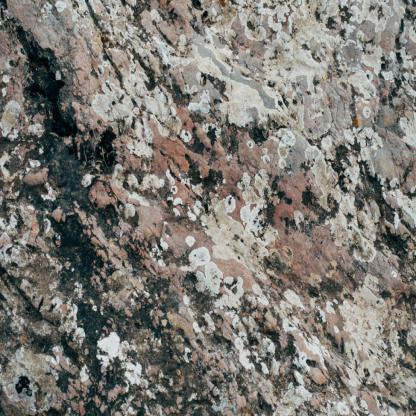Igneous_Granite: (2, 6, 416, 415)
